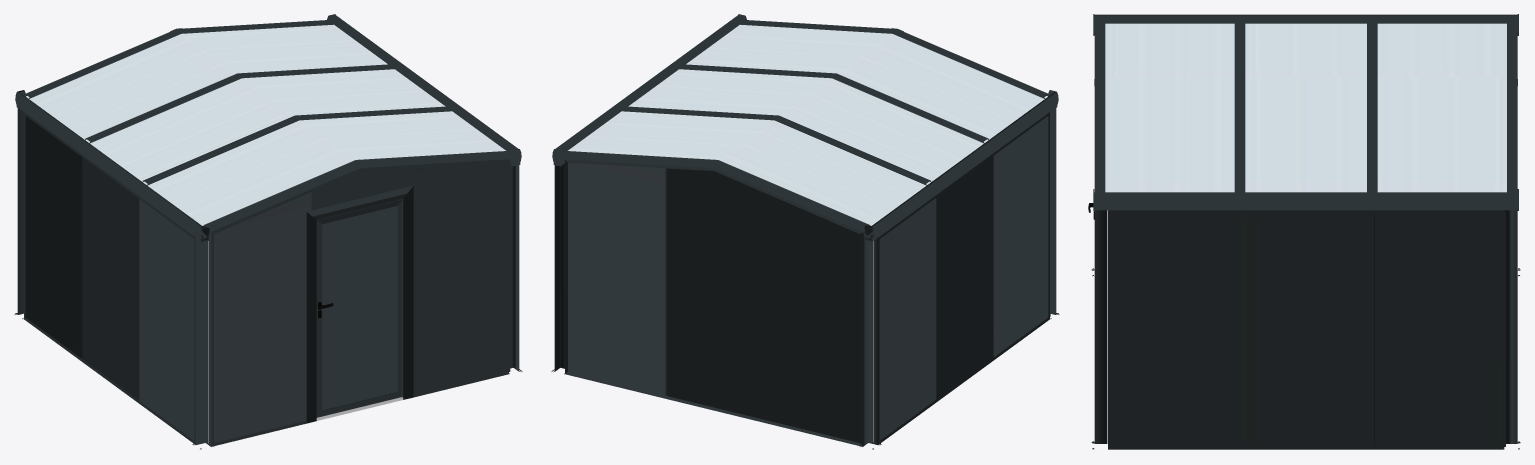
The model's file is 13436_avecgouttiere.fbx.
3 views of the same model, side by side, from view 1: azimuth 30°, elevation 25°; view 2: azimuth 150°, elevation 25°; view 3: azimuth 270°, elevation 25° (orthographic). The views are drawn at different scales.
Visible parts, largest first — view 1: priximbattable_net_abris_de_jardin_13436_abris_de_jardin_3m_, folha, porta; view 2: priximbattable_net_abris_de_jardin_13436_abris_de_jardin_3m_; view 3: priximbattable_net_abris_de_jardin_13436_abris_de_jardin_3m_.
Part boxes in pixels (bbox=[...]): priximbattable_net_abris_de_jardin_13436_abris_de_jardin_3m_: bbox=[14, 14, 522, 449]; folha: bbox=[316, 199, 402, 417]; porta: bbox=[306, 185, 413, 423]; priximbattable_net_abris_de_jardin_13436_abris_de_jardin_3m_: bbox=[551, 14, 1059, 449]; priximbattable_net_abris_de_jardin_13436_abris_de_jardin_3m_: bbox=[1091, 14, 1520, 449].
Size of the model in its own units: 324 by 238 by 327.
1 material, 1 textured.
